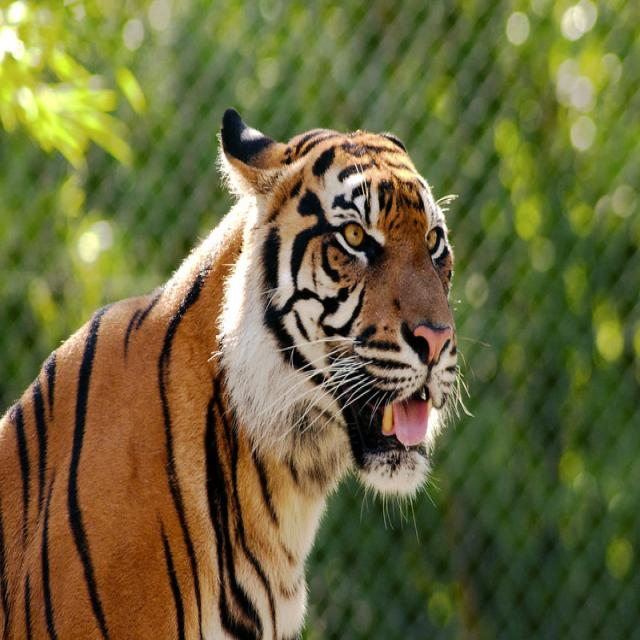Tiger: (0, 111, 462, 639)
